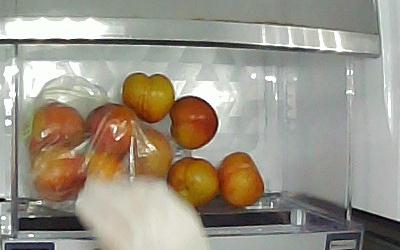prune: (122, 70, 176, 123), (215, 152, 265, 209), (168, 157, 220, 209), (170, 97, 219, 149)
prune_vinyl: (25, 102, 87, 156), (30, 149, 88, 202), (86, 104, 141, 156), (134, 126, 172, 178), (86, 153, 126, 182)
